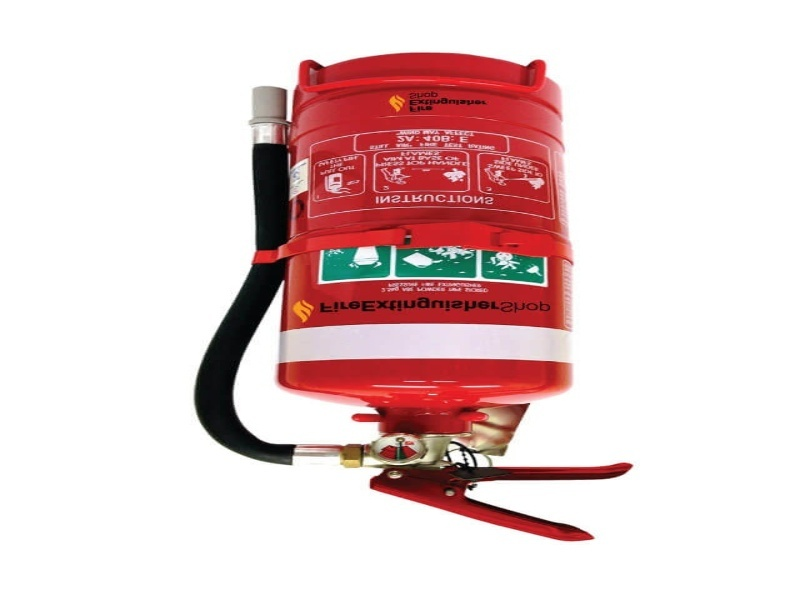fire_extinguisher: (187, 20, 636, 546)
